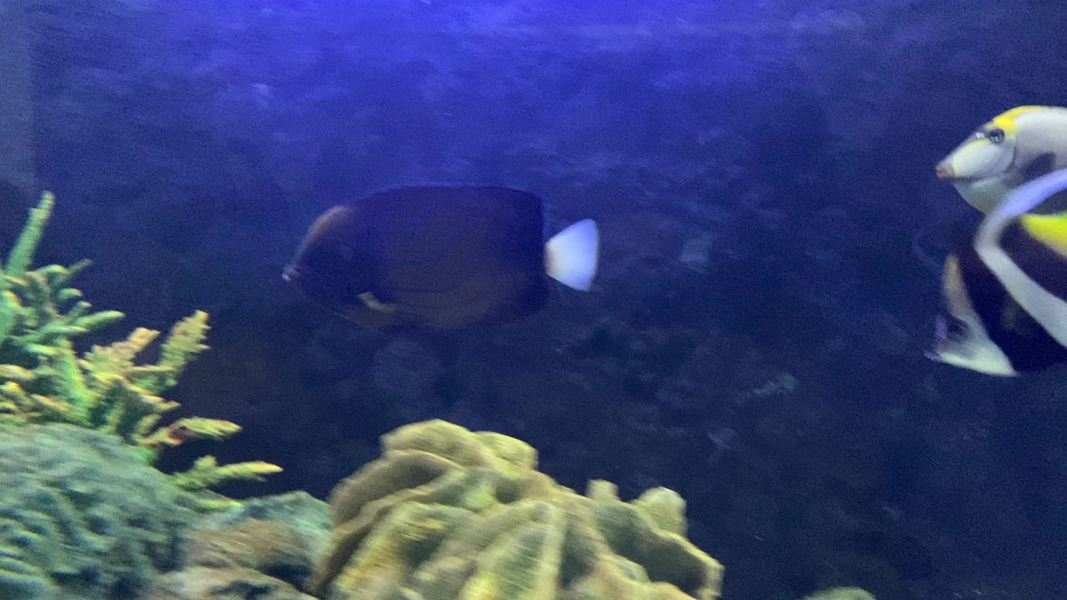Blue ring angelfish: (261, 158, 631, 365)
